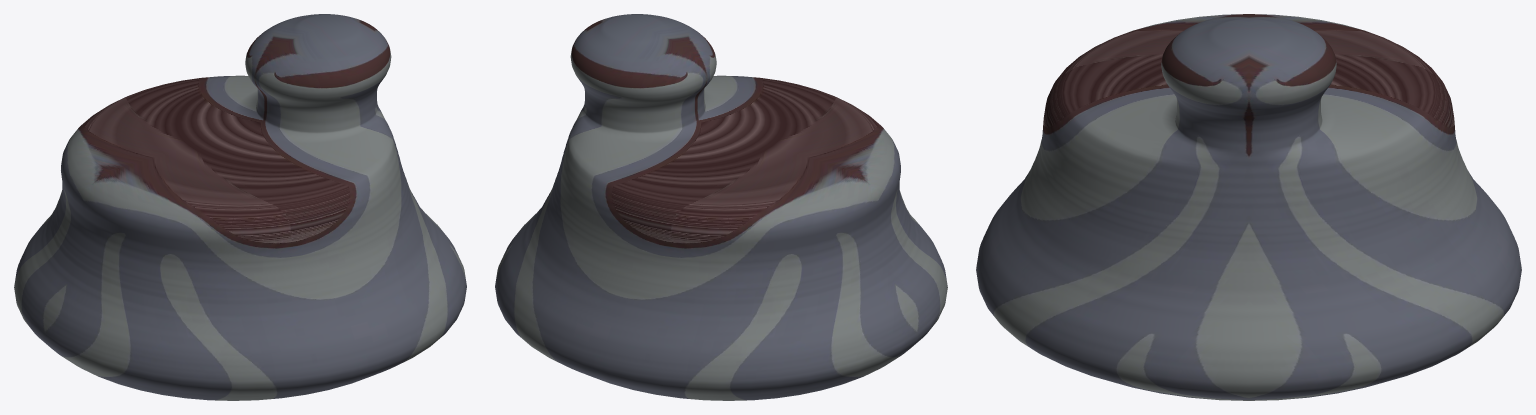
The model's file is slate_vent.glb.
The picture shows the model from 3 angles, left to right: view 1: azimuth 30°, elevation 25°; view 2: azimuth 150°, elevation 25°; view 3: azimuth 270°, elevation 25°; orthographic projection. The views are drawn at different scales.
Visible parts, largest first — view 1: slate_vent; view 2: slate_vent; view 3: slate_vent.
Part boxes in pixels (left/top/right/bottom): slate_vent: left=14, top=14, right=466, bottom=400; slate_vent: left=495, top=14, right=947, bottom=400; slate_vent: left=976, top=14, right=1521, bottom=400.
Size of the model in its own units: 0.9994 by 0.7159 by 0.9994.
1 material, 1 textured.
